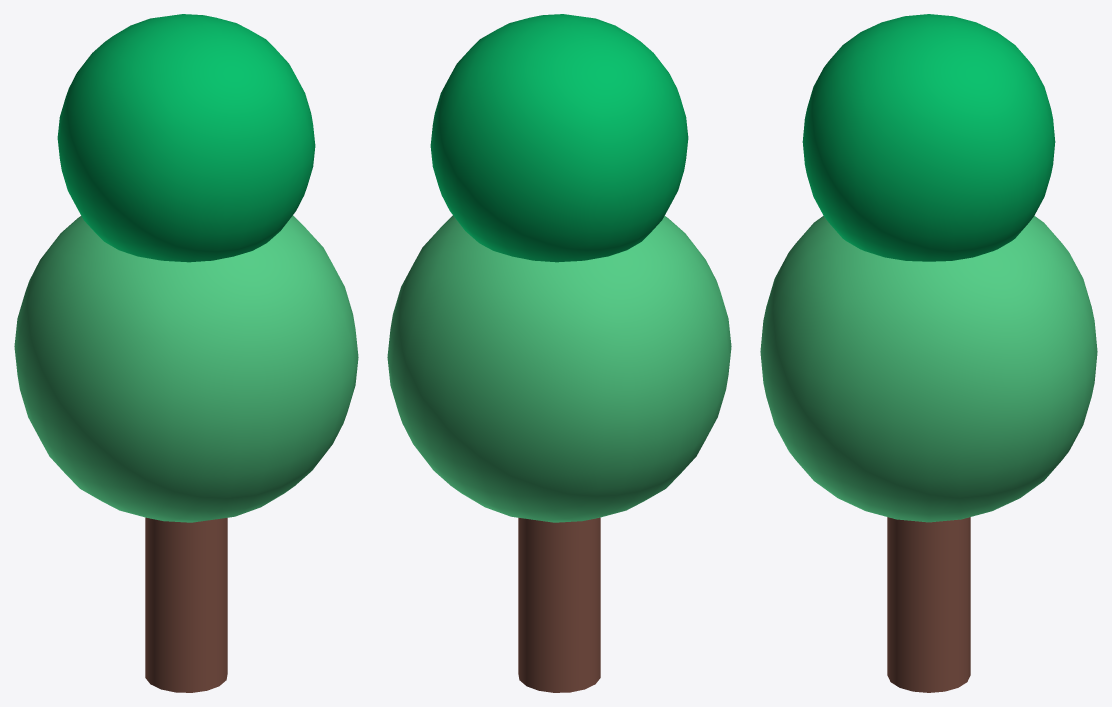
Rendered from City_10_Tree_2.glb.
3 views of the same model, side by side, from view 1: azimuth 30°, elevation 25°; view 2: azimuth 150°, elevation 25°; view 3: azimuth 270°, elevation 25° (orthographic).
Visible parts, largest first — view 1: City_10_Tree_2; view 2: City_10_Tree_2; view 3: City_10_Tree_2.
Boxes of the visible parts, <box> form: City_10_Tree_2: <box>14,14,358,692</box>; City_10_Tree_2: <box>387,14,731,692</box>; City_10_Tree_2: <box>760,14,1097,692</box>.
Size of the model in its own units: 2.23 by 4.74 by 2.23.
1 material, 1 textured.
